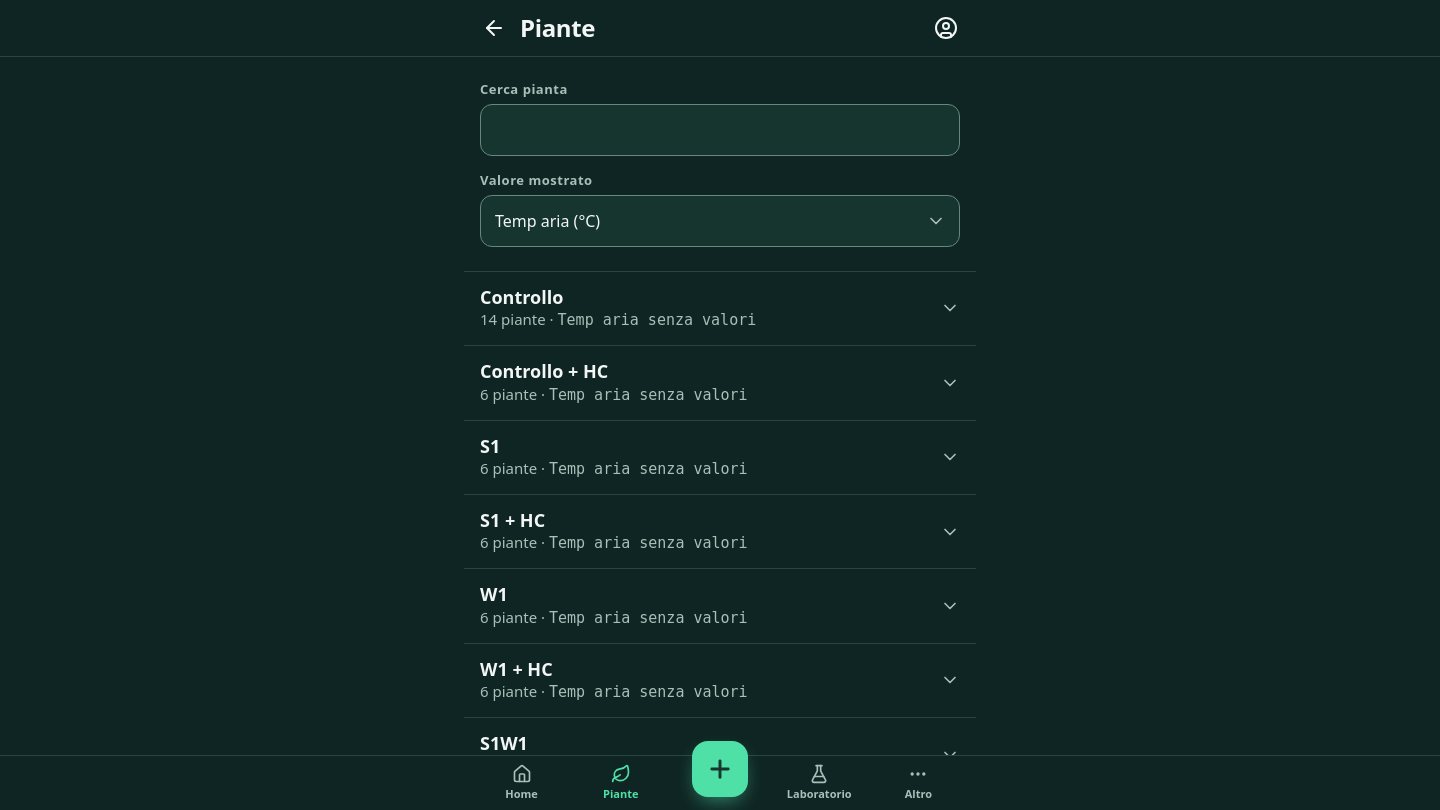
ElencoPiante: la ricerca › filtra le piante per etichetta, apre da soli i blocchi che le contengono e nasconde gli altri
Type "21" into the search field labelled "Cerca pianta" at [720, 130], box 480,104 -> 960,156
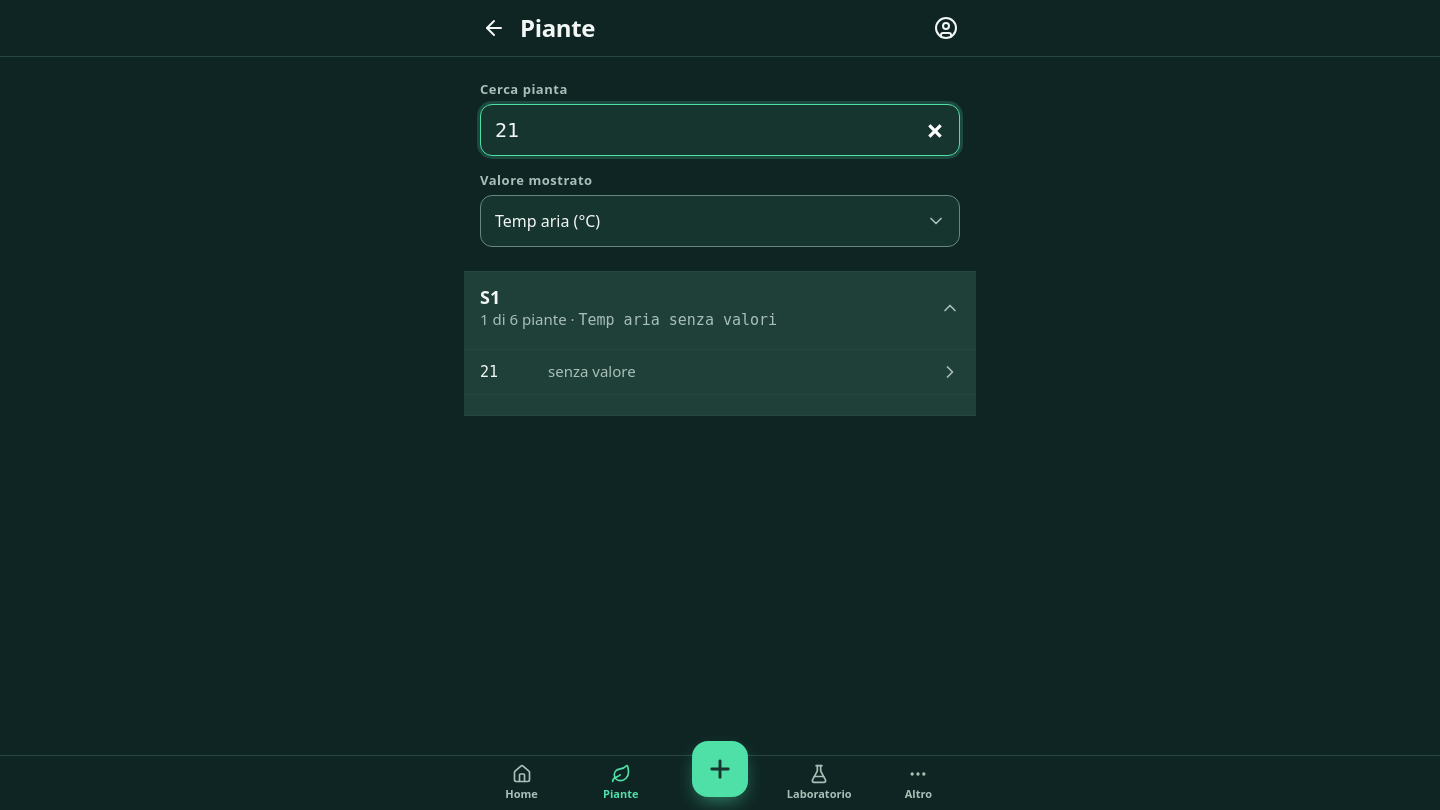
Check: the button "S1 1 di 6 piante · Temp aria senza valori" is shown, box 464,272 -> 976,345
Check: the button "S1 1 di 6 piante · Temp aria senza valori" is expanded, box 464,272 -> 976,345
